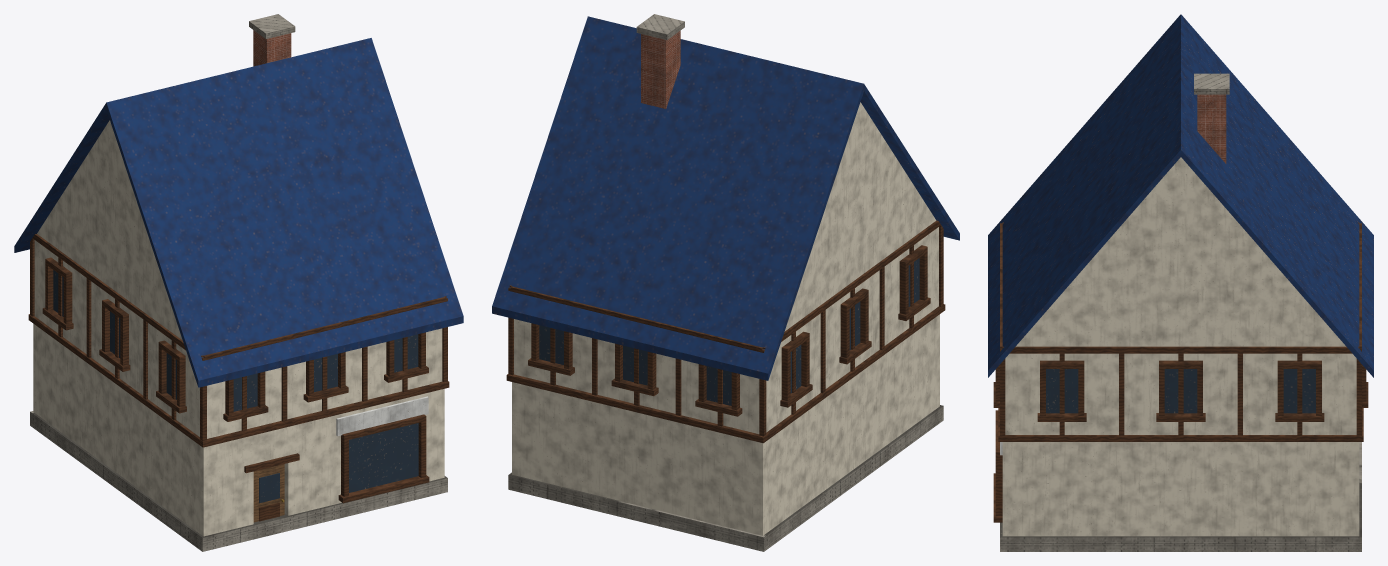
File: Bld_TownHouse_B.fbx
The picture shows the model from 3 angles, left to right: view 1: azimuth 30°, elevation 25°; view 2: azimuth 150°, elevation 25°; view 3: azimuth 270°, elevation 25°; orthographic projection. The views are drawn at different scales.
Parts seen in each view (by area): view 1: Roof, Walls_Room, Windows_Upper, ShopFront, HalfTimber, Plinth, FloorBand, Chimney, Door_TownHouse_B; view 2: Roof, Walls_Room, Windows_Upper, HalfTimber, Plinth, FloorBand, Chimney; view 3: Roof, Walls_Room, Windows_Upper, HalfTimber, Plinth, FloorBand, Chimney, ShopFront.
Part boxes in pixels (x1=…): Roof: x1=14, y1=38, x2=463, y2=387; Walls_Room: x1=33, y1=240, x2=444, y2=536; Windows_Upper: x1=42, y1=257, x2=428, y2=421; ShopFront: x1=244, y1=396, x2=429, y2=503; HalfTimber: x1=30, y1=234, x2=447, y2=441; Plinth: x1=30, y1=411, x2=447, y2=551; FloorBand: x1=28, y1=314, x2=449, y2=447; Chimney: x1=249, y1=14, x2=295, y2=66; Door_TownHouse_B: x1=253, y1=464, x2=284, y2=522; Roof: x1=492, y1=16, x2=959, y2=380; Walls_Room: x1=512, y1=227, x2=939, y2=535; Windows_Upper: x1=528, y1=245, x2=930, y2=416; HalfTimber: x1=508, y1=220, x2=943, y2=436; Plinth: x1=508, y1=405, x2=943, y2=551; FloorBand: x1=506, y1=304, x2=945, y2=443; Chimney: x1=636, y1=14, x2=684, y2=108; Roof: x1=988, y1=14, x2=1373, y2=377; Walls_Room: x1=1002, y1=353, x2=1359, y2=536; Windows_Upper: x1=993, y1=360, x2=1368, y2=421; HalfTimber: x1=1000, y1=222, x2=1361, y2=435; Plinth: x1=1000, y1=442, x2=1361, y2=551; FloorBand: x1=998, y1=408, x2=1363, y2=441; Chimney: x1=1194, y1=73, x2=1229, y2=163; ShopFront: x1=993, y1=410, x2=1002, y2=522.
Bounding box in the file's own units: 9.9 × 14.72 × 11.9.
